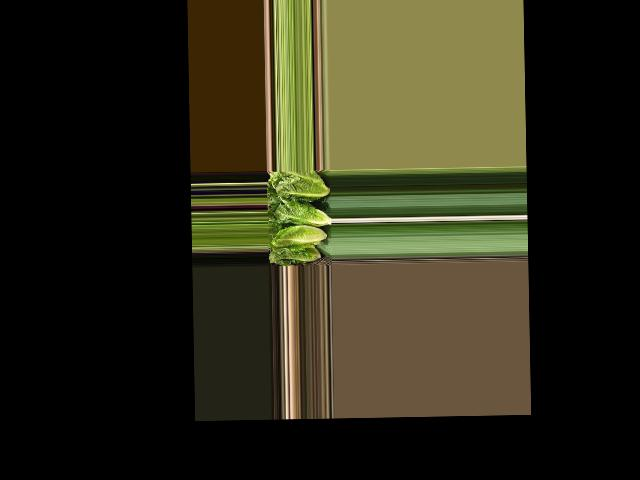lettuce: (268, 246, 319, 262)
